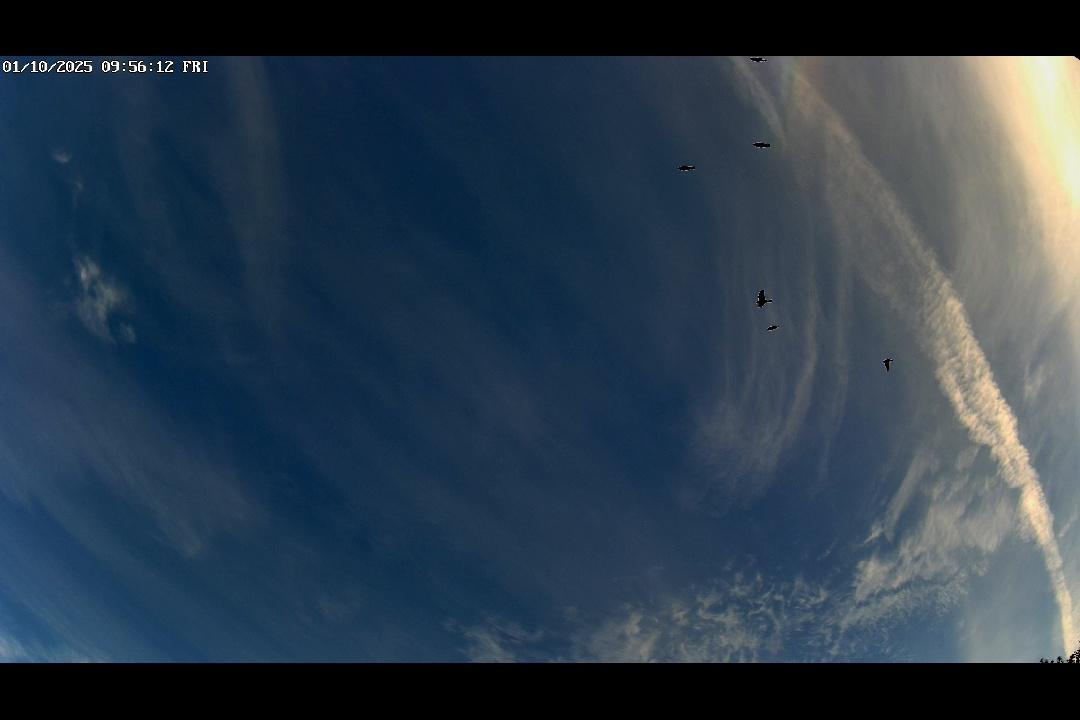WildLife: (747, 283, 778, 314), (673, 155, 706, 180), (878, 352, 900, 377), (763, 319, 783, 337), (751, 139, 776, 152), (745, 56, 772, 67)
